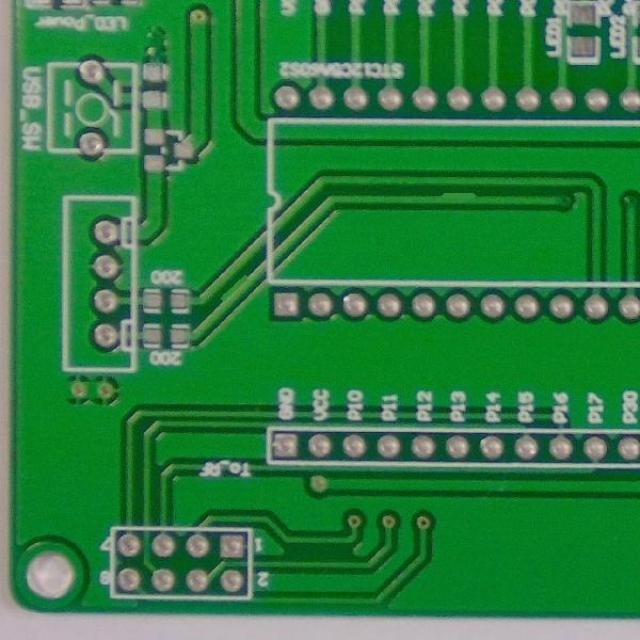spur: (214, 270, 253, 302), (435, 185, 482, 206)
